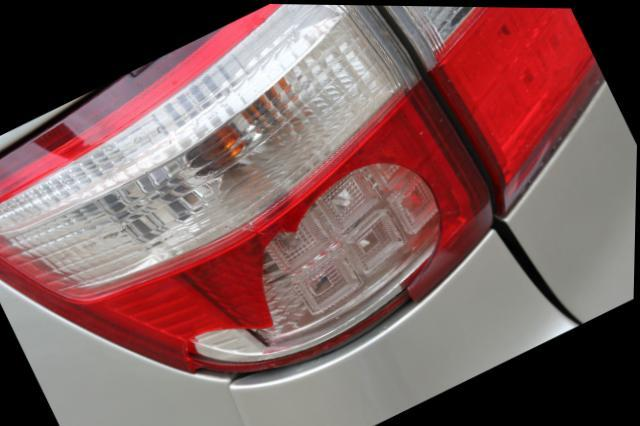lamp broken: (0, 3, 495, 375)
